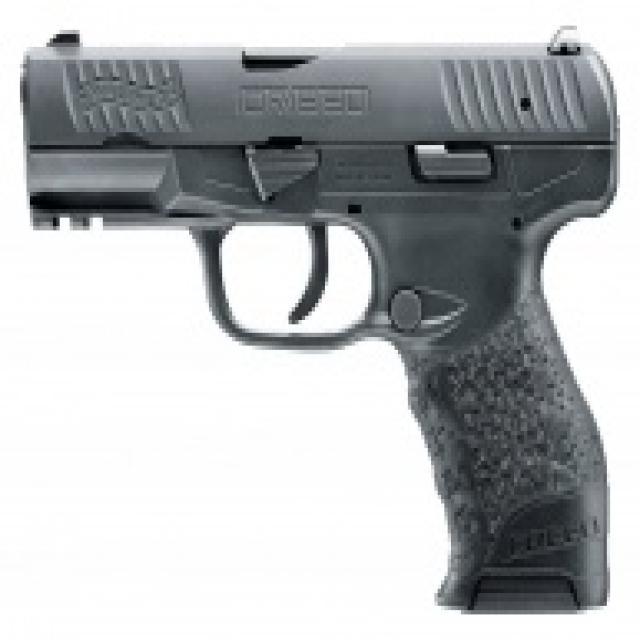pistol: (19, 20, 622, 630)
